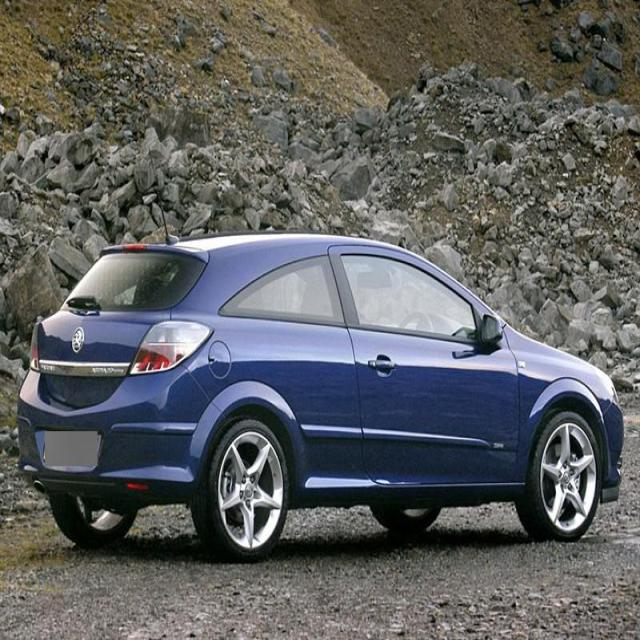back_glass: (62, 249, 208, 314)
back_left_side_light: (28, 315, 48, 371)
back_right_side_light: (127, 320, 215, 376)
front_right_side_door: (326, 242, 522, 488)
front_right_side_mirror: (478, 310, 504, 346)
rear_bumper: (16, 363, 226, 499)
wheel: (192, 419, 291, 554), (530, 410, 604, 540)
